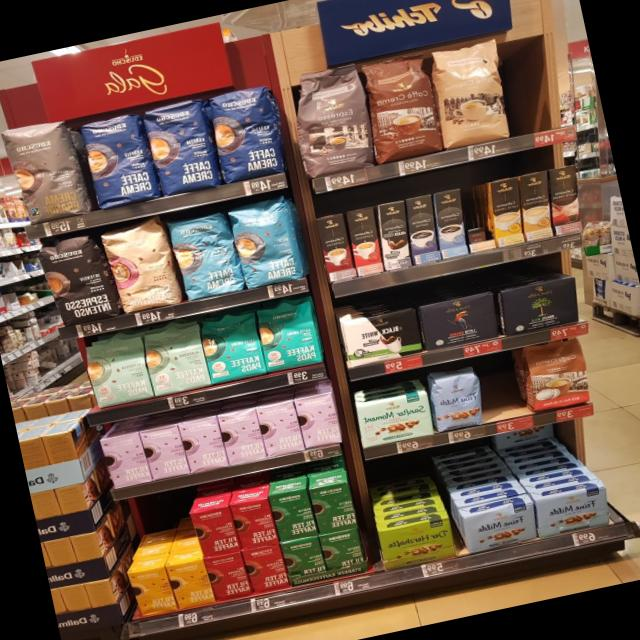BM Gemahlen: (338, 304, 426, 368), (495, 274, 585, 336)
CC Mild: (422, 35, 519, 153)
CC Vollmundig: (514, 336, 595, 414)
CC Vollmundig 36 Pads: (352, 47, 449, 167)
Empty Shelf: (472, 358, 528, 422), (461, 182, 496, 253)
Espresso M Art: (280, 60, 382, 183)
FM Bohne: (422, 362, 488, 434)
FM Gemahlen: (458, 498, 543, 554), (530, 482, 614, 538)
Herzhatfe Mundig: (374, 513, 458, 573)
LG Gemahlen: (414, 289, 504, 353)
SM Gemahlen: (352, 389, 436, 449)
Simo CC Colombia: (546, 163, 583, 234)
Simo CCMild bigpack: (487, 175, 525, 247)
Simo Decaff: (518, 169, 554, 240)
Simo Es Elegant: (342, 204, 387, 276)
Simo Es Kraft: (314, 212, 358, 284)
Simo Kaffee BW: (375, 199, 413, 271)
Simo Kaffee Kraft: (404, 192, 441, 266)
Simo Kaffee Mild: (432, 186, 469, 260)
